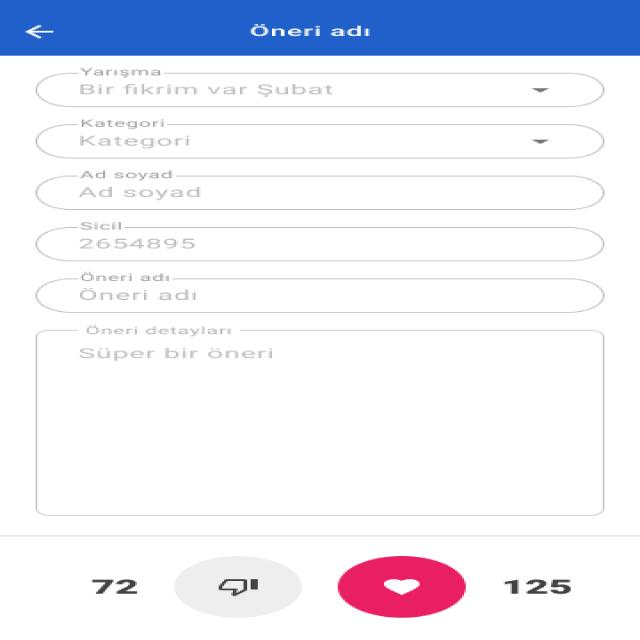QLabel: (75, 81, 334, 97), (246, 23, 373, 38), (502, 578, 572, 594), (88, 579, 139, 595)
VAppBar: (0, 0, 640, 56)
VCombobox: (35, 117, 606, 160), (35, 67, 607, 108)
VFooter: (0, 536, 640, 640)
VIcon: (20, 22, 61, 41)
VImg: (335, 554, 471, 619), (174, 554, 302, 618)
VTextField: (34, 221, 608, 263), (36, 272, 606, 314), (34, 169, 606, 210)
VTextarea: (32, 326, 609, 518)
